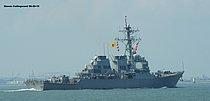MIL_Ship: (23, 27, 183, 90)
